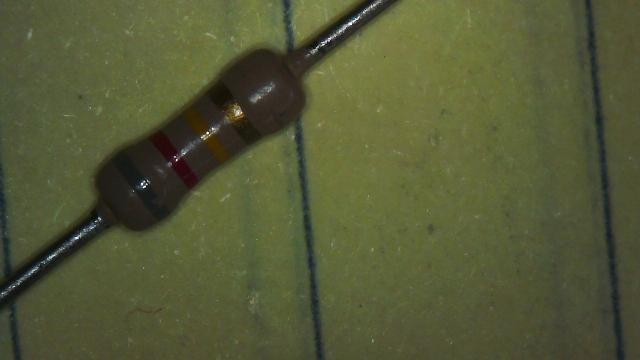gold: (209, 82, 260, 144)
grey: (112, 153, 168, 221)
red: (149, 130, 198, 188)
resistor: (72, 17, 341, 259)
yellow: (180, 104, 232, 163)
